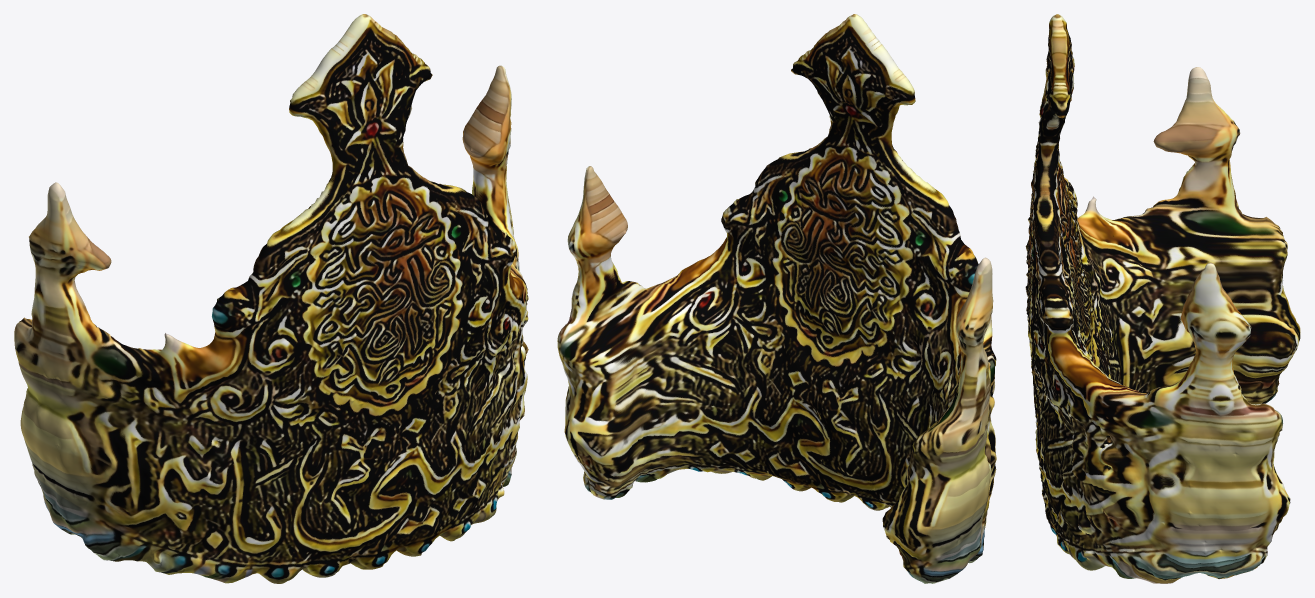
Rendered from kfl-2234.glb.
3 views of the same model, side by side, from view 1: azimuth 30°, elevation 25°; view 2: azimuth 150°, elevation 25°; view 3: azimuth 270°, elevation 25° (orthographic). The views are drawn at different scales.
Parts seen in each view (by area): view 1: kfl-2234; view 2: kfl-2234; view 3: kfl-2234.
Boxes of the visible parts, x1,y1,x2,y2 form: kfl-2234: (14,14,528,583); kfl-2234: (557,14,996,583); kfl-2234: (1025,14,1300,583).
Size of the model in its own units: 0.8775 by 0.992 by 0.4918.
Materials: 1 (1 with a texture image).
